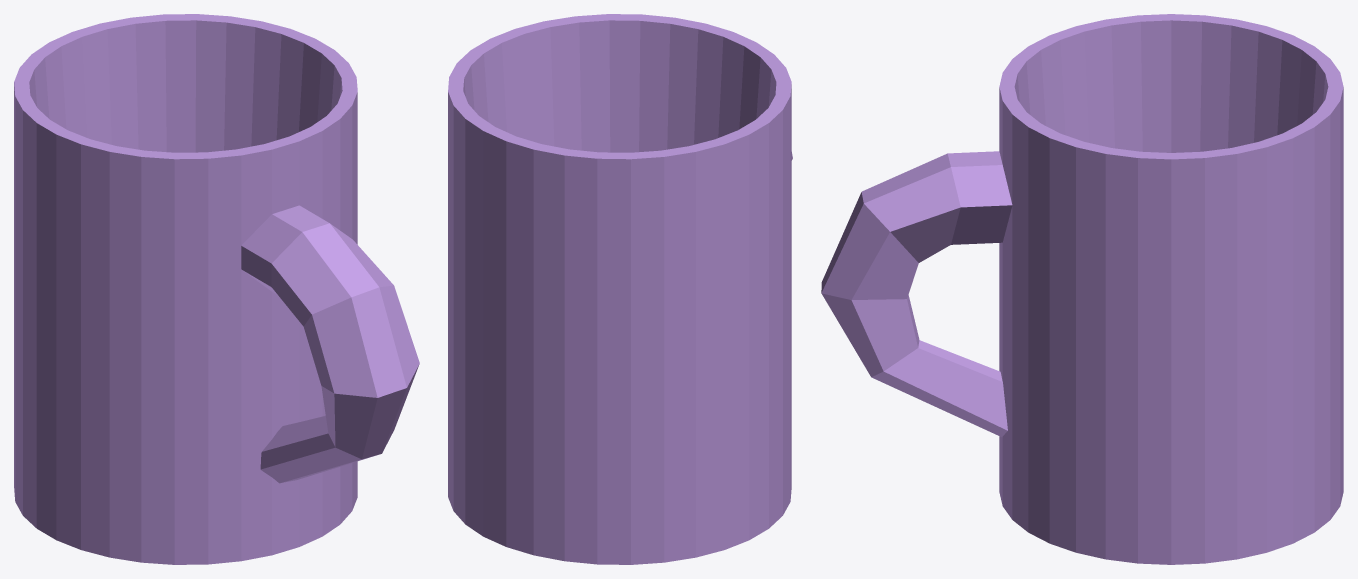
File: cup.fbx
The picture shows the model from 3 angles, left to right: view 1: azimuth 30°, elevation 25°; view 2: azimuth 150°, elevation 25°; view 3: azimuth 270°, elevation 25°; orthographic projection.
Parts seen in each view (by area): view 1: Cylinder; view 2: Cylinder; view 3: Cylinder.
Part boxes in pixels (left/top/right/bottom): Cylinder: left=14, top=14, right=419, bottom=564; Cylinder: left=448, top=14, right=792, bottom=564; Cylinder: left=821, top=14, right=1343, bottom=564.
Size of the model in its own units: 10 by 13 by 15.17.
